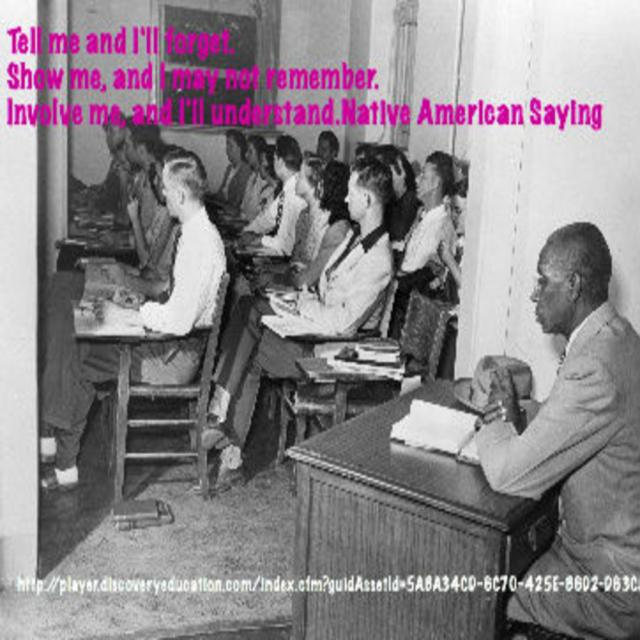chair: (116, 270, 234, 501)
desk: (289, 375, 522, 565)
person: (473, 222, 640, 640), (210, 152, 404, 479), (390, 151, 464, 375), (235, 135, 307, 262)
